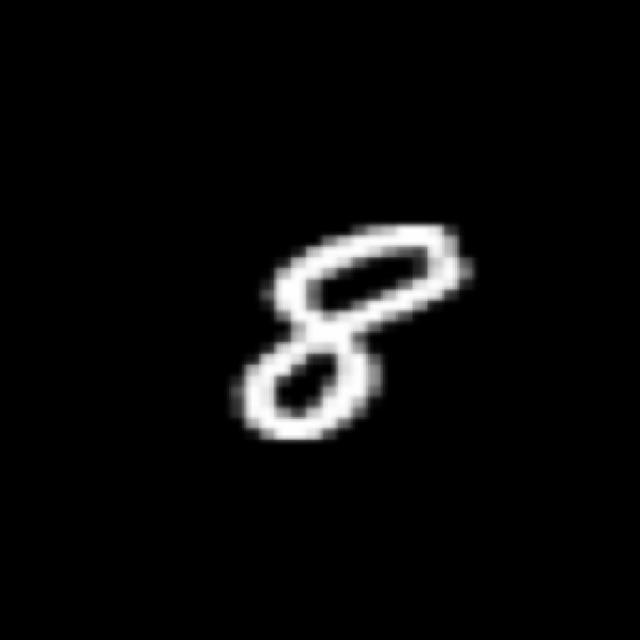eight -8-: (236, 214, 476, 460)
